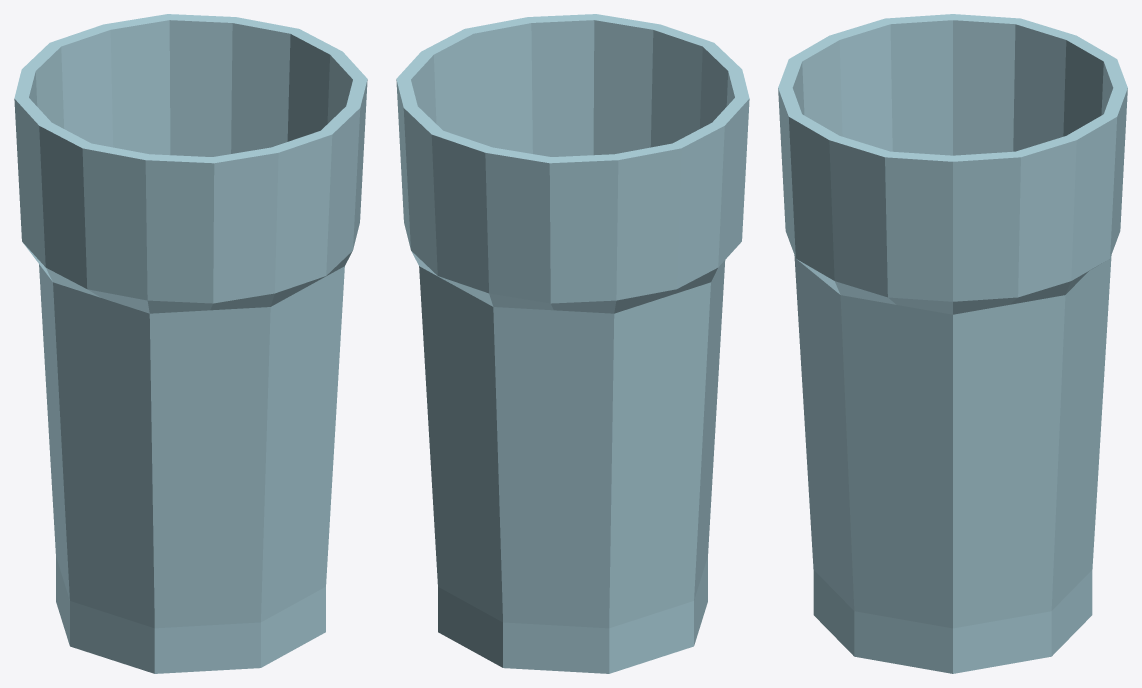
File: ikeaGlass.glb
The picture shows the model from 3 angles, left to right: view 1: azimuth 30°, elevation 25°; view 2: azimuth 150°, elevation 25°; view 3: azimuth 270°, elevation 25°; orthographic projection.
Visible parts, largest first — view 1: IkeaGlass; view 2: IkeaGlass; view 3: IkeaGlass.
Part boxes in pixels (box(x1,y1,x2,y2)): IkeaGlass: box(14, 14, 367, 673); IkeaGlass: box(396, 14, 749, 673); IkeaGlass: box(778, 14, 1127, 673).
Size of the model in its own units: 2.51 by 4.17 by 2.51.
